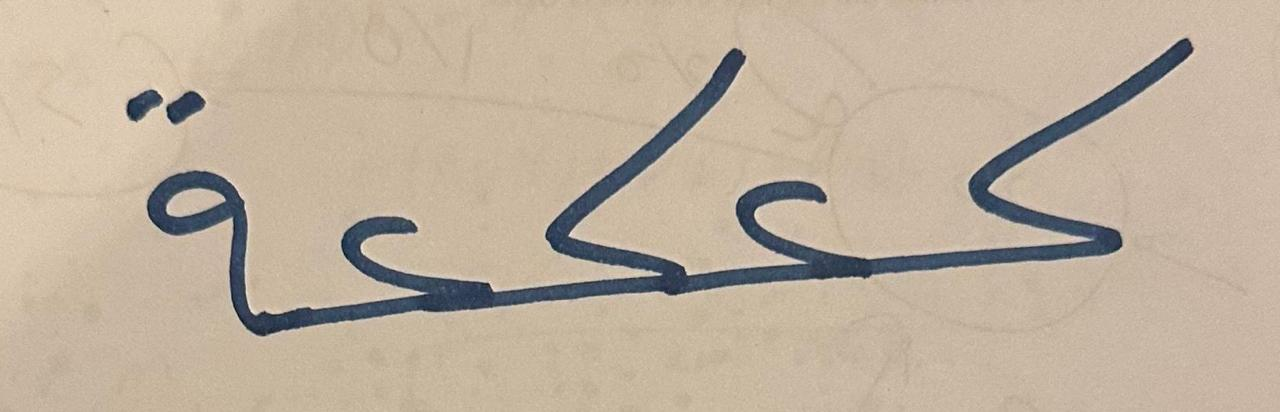ain: (281, 123, 492, 382), (730, 134, 892, 328)
khah: (898, 13, 1227, 329), (495, 30, 726, 361)
thal: (94, 27, 277, 384)
